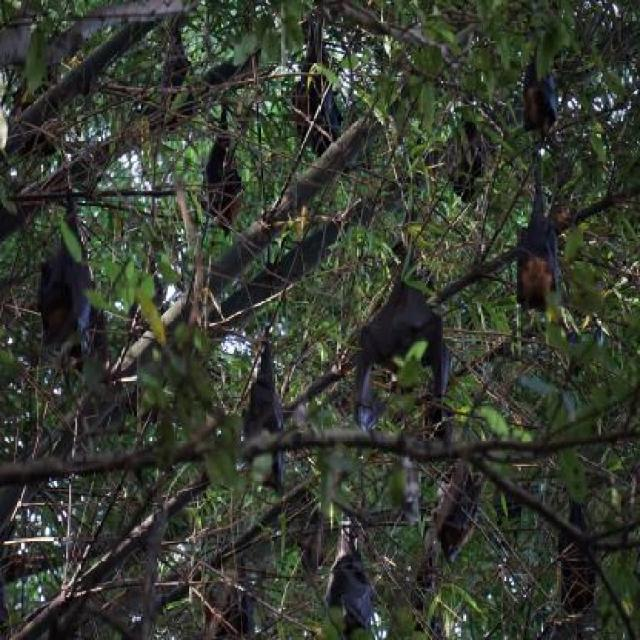Bat: (353, 270, 452, 429), (512, 171, 572, 321), (243, 329, 284, 493), (326, 532, 376, 638)
